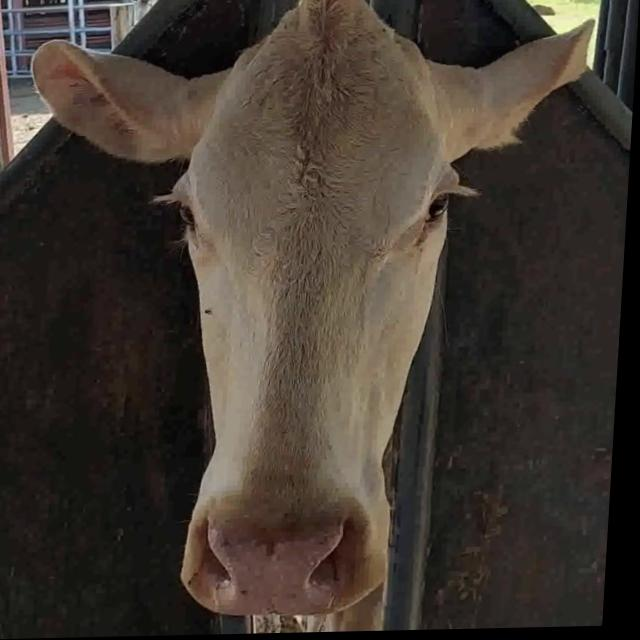cowFace: (162, 0, 466, 618)
